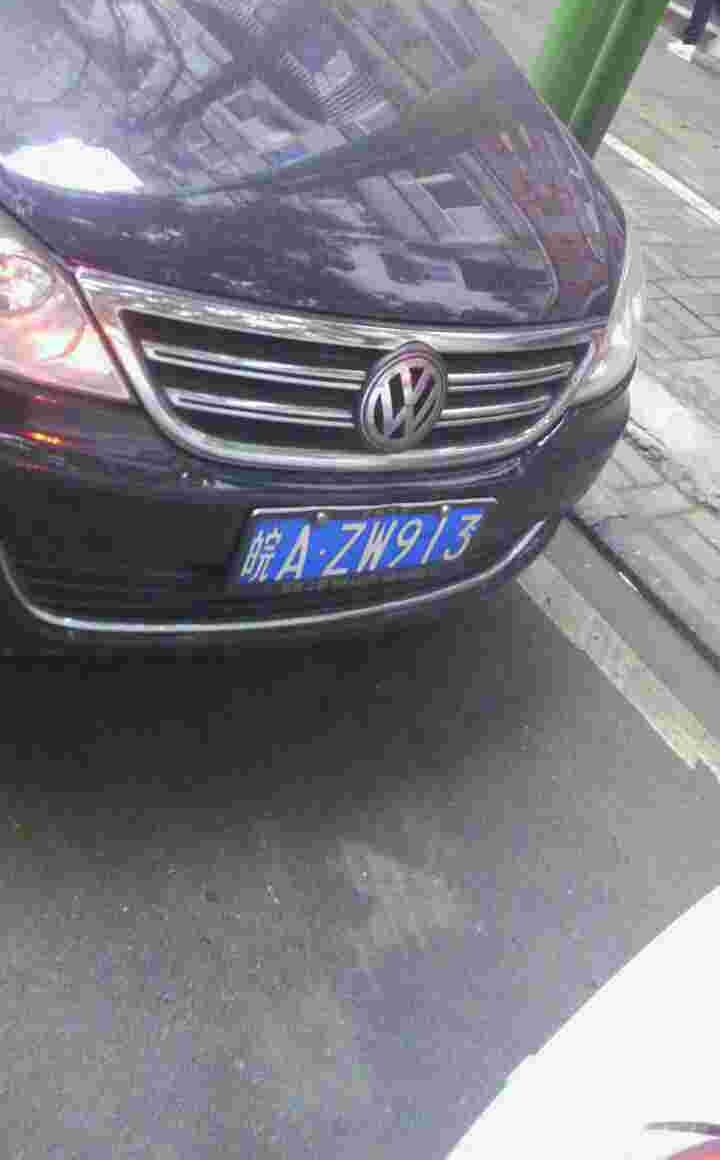license_plate: (253, 512, 480, 587)
